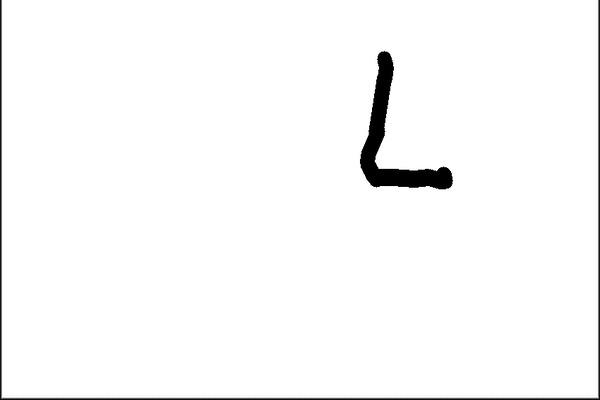L: (349, 44, 463, 197)
